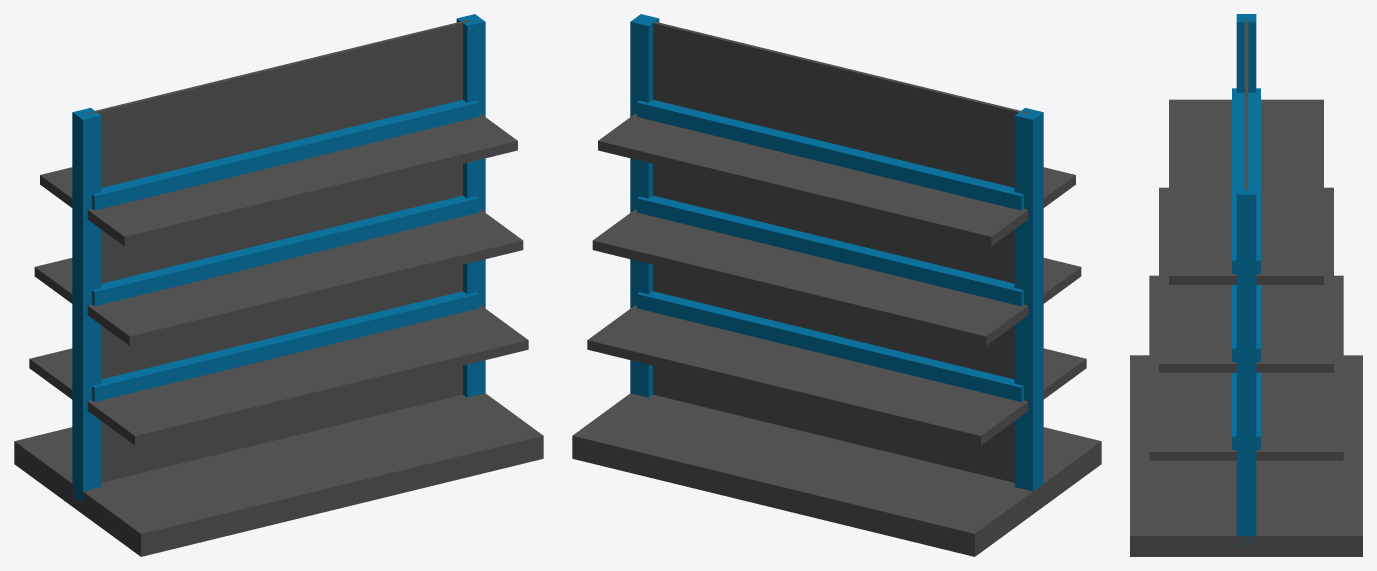
File: Shelf.fbx
3 renders of one model, left to right at view 1: azimuth 30°, elevation 25°; view 2: azimuth 150°, elevation 25°; view 3: azimuth 270°, elevation 25°, orthographic. The views are drawn at different scales.
Visible parts, largest first — view 1: Shelf; view 2: Shelf; view 3: Shelf.
Boxes of the visible parts, x1,y1,x2,y2 form: Shelf: (14,14,543,556); Shelf: (572,14,1101,556); Shelf: (1130,14,1362,556).
Size of the model in its own units: 440 by 412 by 240.
